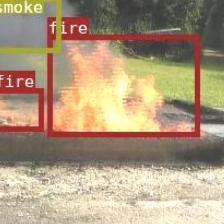fire: (46, 34, 198, 136), (0, 88, 42, 131)
smoke: (0, 0, 60, 52)
